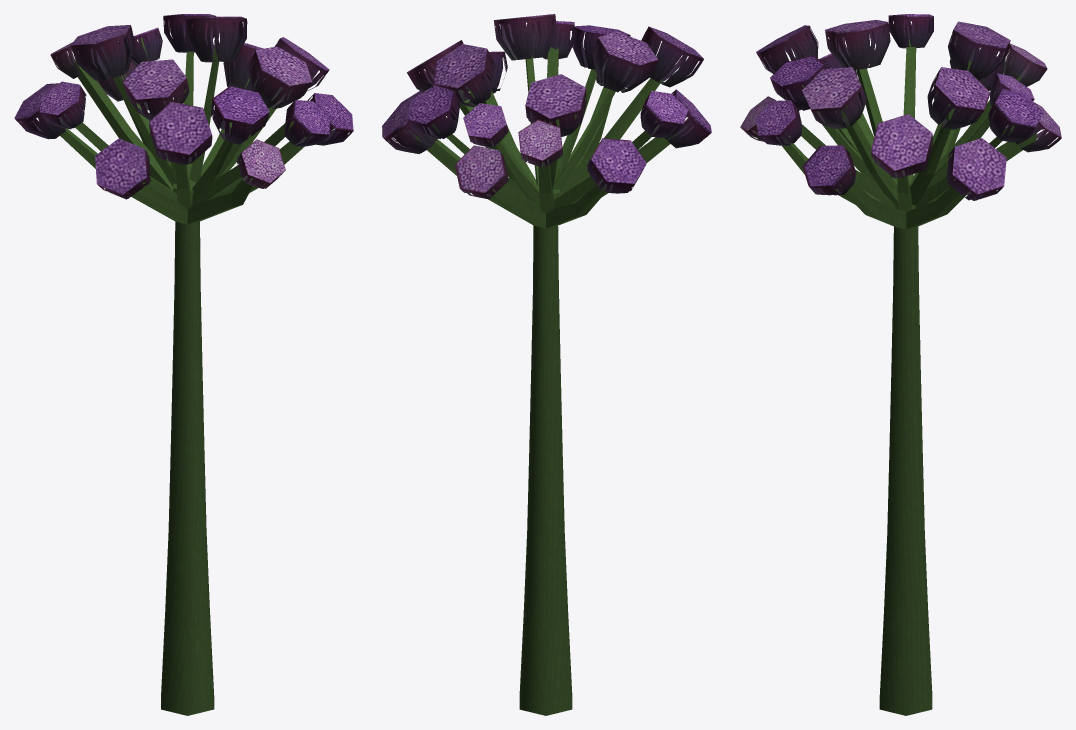
The model's file is Angelica.fbx.
3 views of the same model, side by side, from view 1: azimuth 30°, elevation 25°; view 2: azimuth 150°, elevation 25°; view 3: azimuth 270°, elevation 25° (orthographic).
Visible parts, largest first — view 1: Object002; view 2: Object002; view 3: Object002.
Part boxes in pixels (x1,y1,x2,y2): Object002: (14,14,353,715); Object002: (382,14,711,715); Object002: (740,14,1061,715).
Size of the model in its own units: 116 by 264 by 117.
